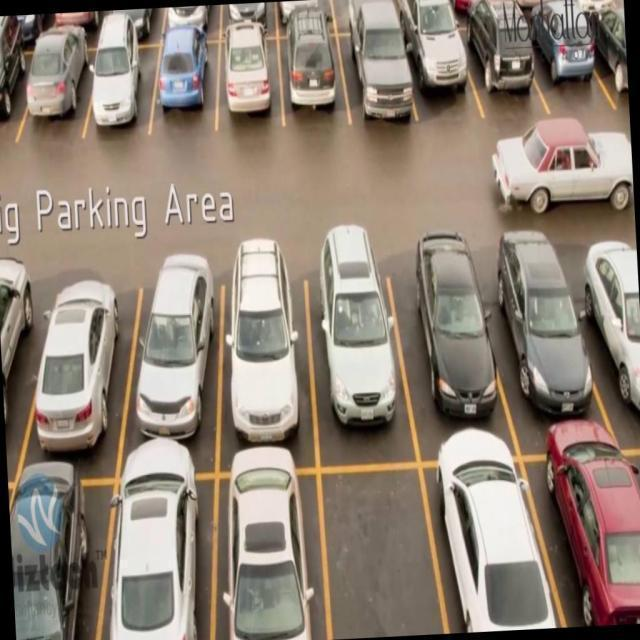space-empty: (321, 469, 431, 640)
space-occupied: (474, 254, 615, 447), (298, 246, 416, 458), (219, 244, 319, 464), (100, 469, 227, 640), (121, 255, 221, 469), (427, 454, 540, 634), (214, 466, 329, 640), (8, 470, 122, 640), (401, 258, 501, 449), (537, 448, 640, 629), (34, 271, 125, 470), (577, 259, 640, 438), (0, 244, 45, 472), (397, 0, 475, 129), (275, 19, 349, 154), (457, 0, 534, 128), (338, 17, 417, 140), (522, 0, 598, 125), (151, 29, 230, 144), (212, 27, 288, 146), (31, 25, 94, 162), (95, 33, 157, 143), (584, 0, 630, 116), (0, 31, 34, 158), (166, 4, 231, 47), (220, 2, 279, 43), (113, 8, 174, 46), (272, 0, 332, 36), (443, 0, 499, 31)
